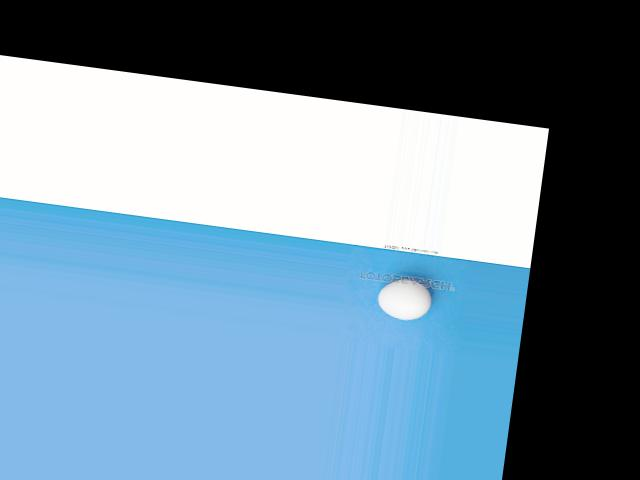egg: (376, 274, 434, 322)
